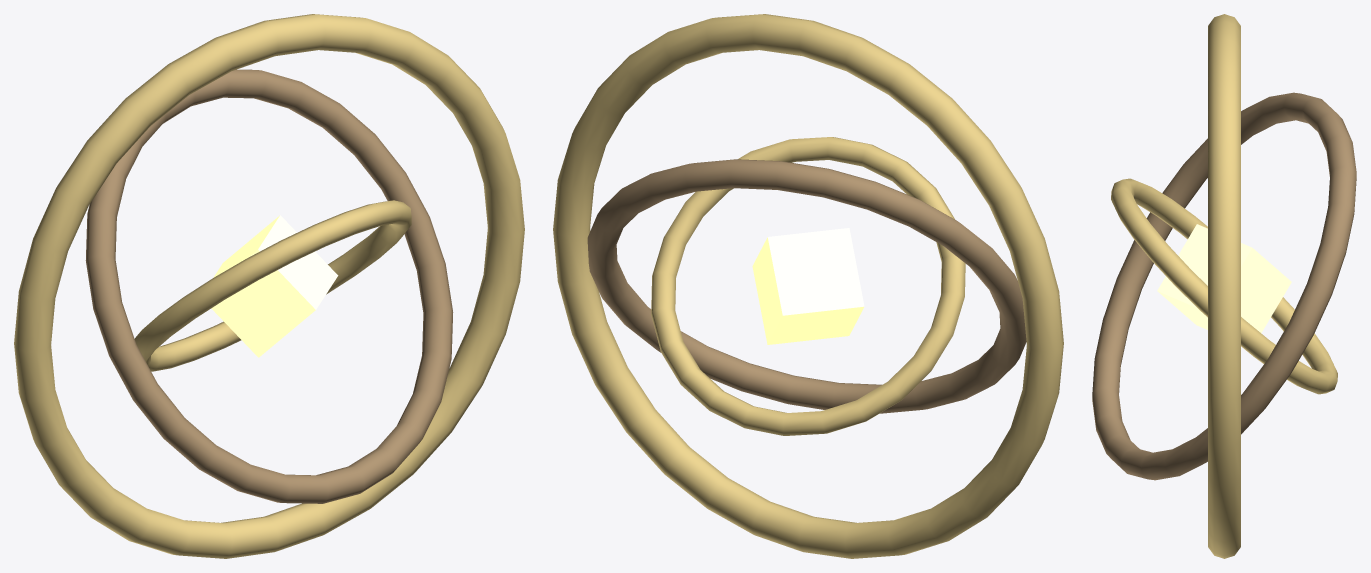
The model's file is ancient-artifact.glb.
The picture shows the model from 3 angles, left to right: view 1: azimuth 30°, elevation 25°; view 2: azimuth 150°, elevation 25°; view 3: azimuth 270°, elevation 25°; orthographic projection. The views are drawn at different scales.
Visible parts, largest first — view 1: ancient-artifact; view 2: ancient-artifact; view 3: ancient-artifact.
Part boxes in pixels (box(x1,y1,x2,y2)): ancient-artifact: box(14, 14, 524, 558); ancient-artifact: box(553, 14, 1063, 558); ancient-artifact: box(1092, 14, 1356, 558).
Size of the model in its own units: 2.35 by 2.35 by 1.14.
